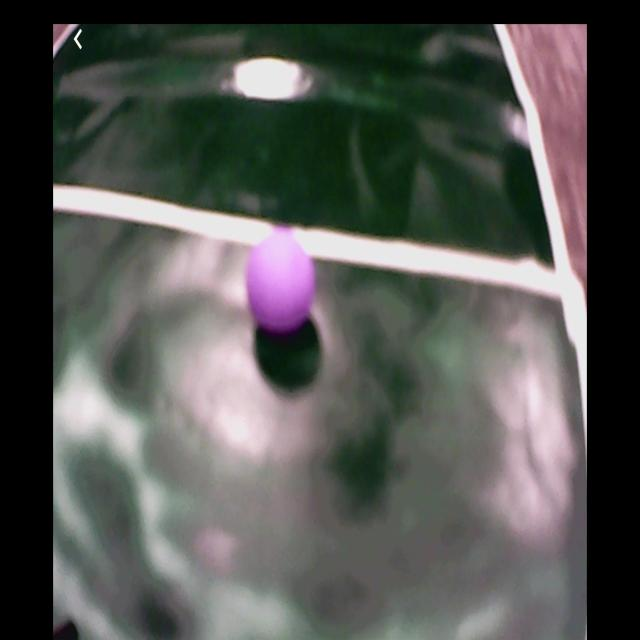ball: (245, 227, 318, 336)
